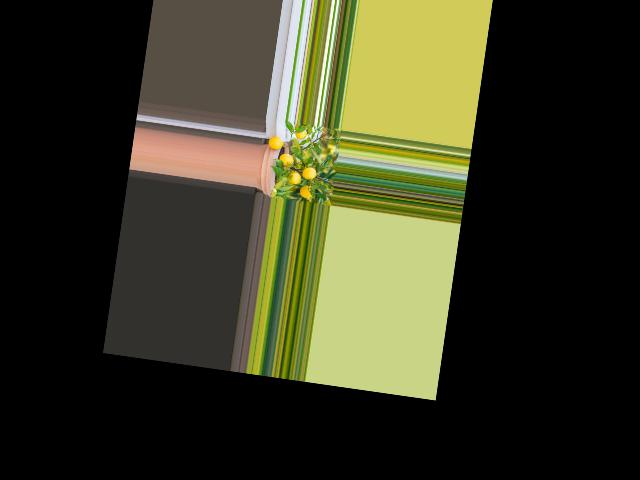lemon: (292, 127, 308, 140)
